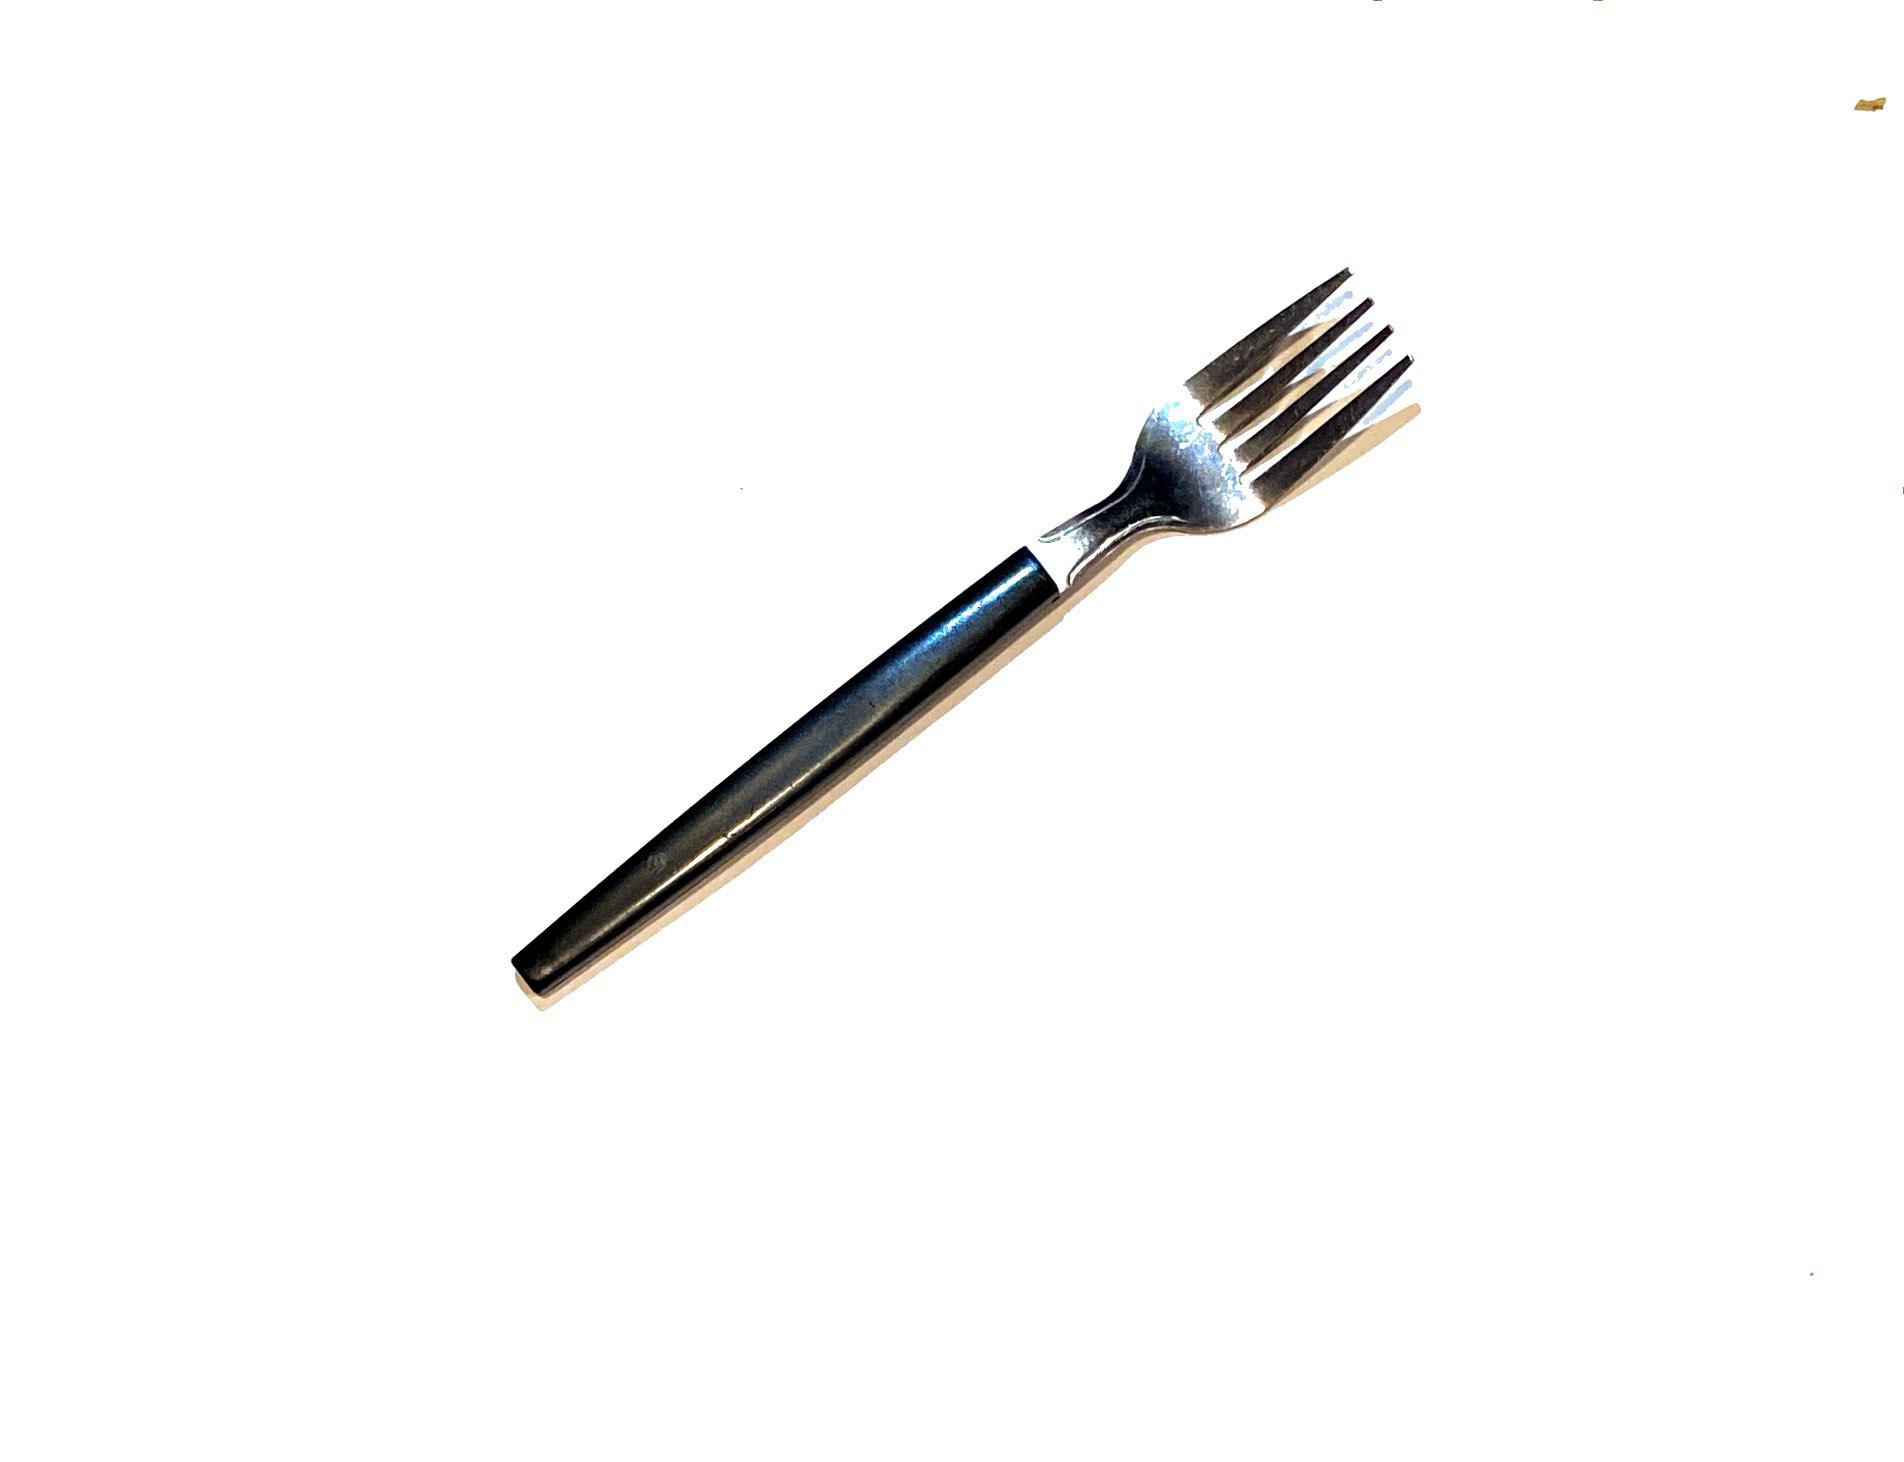Fork: (427, 217, 1612, 1136)
